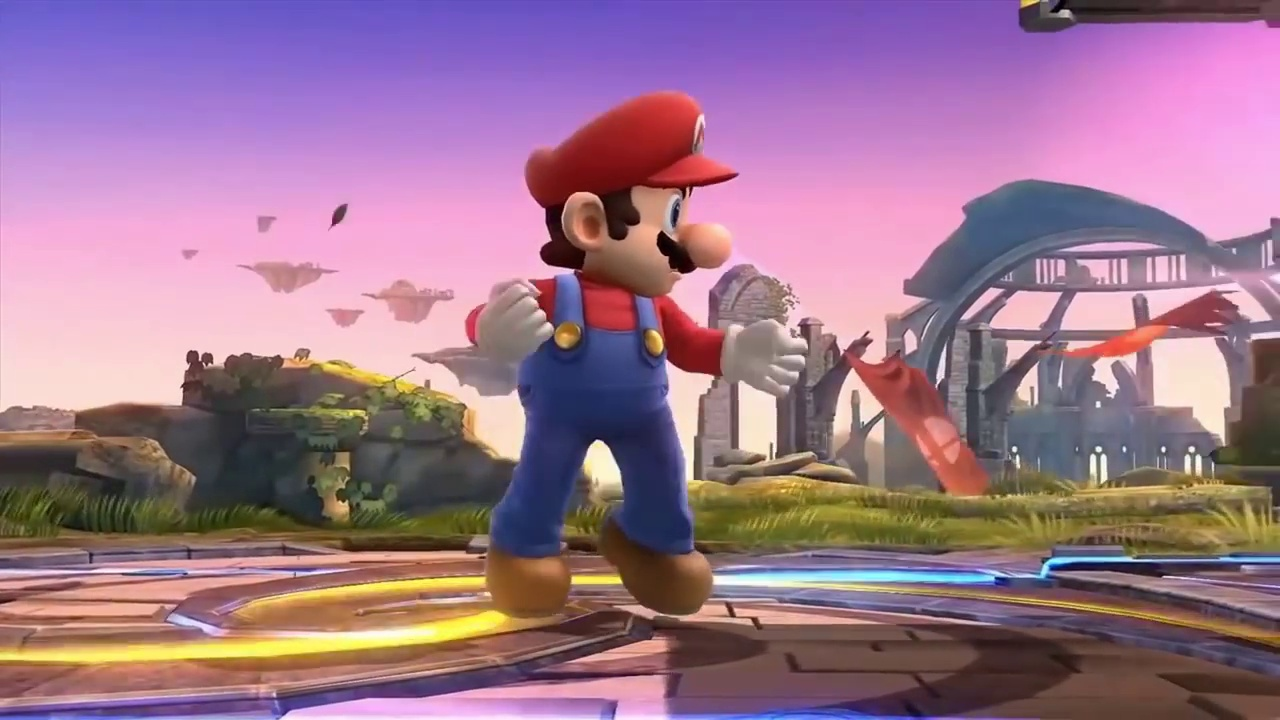Mario: (464, 84, 810, 616)
